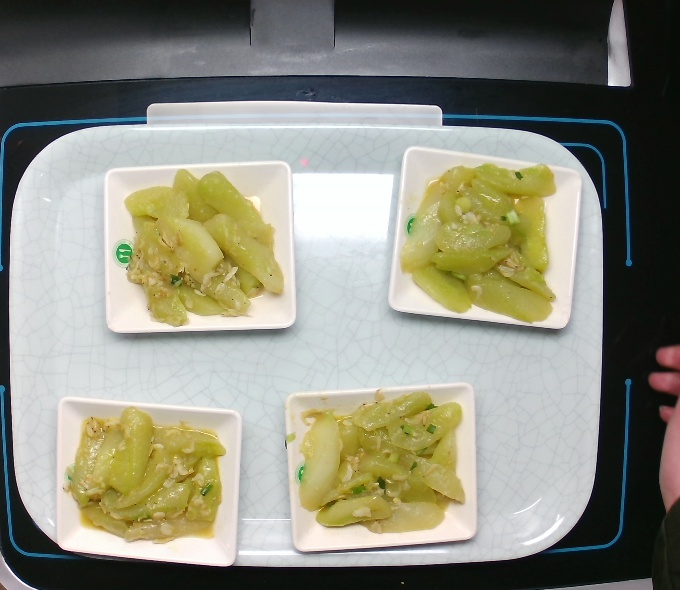wcq-HuangGua: (402, 162, 564, 324), (118, 167, 286, 321), (298, 396, 468, 539), (68, 412, 226, 547)
